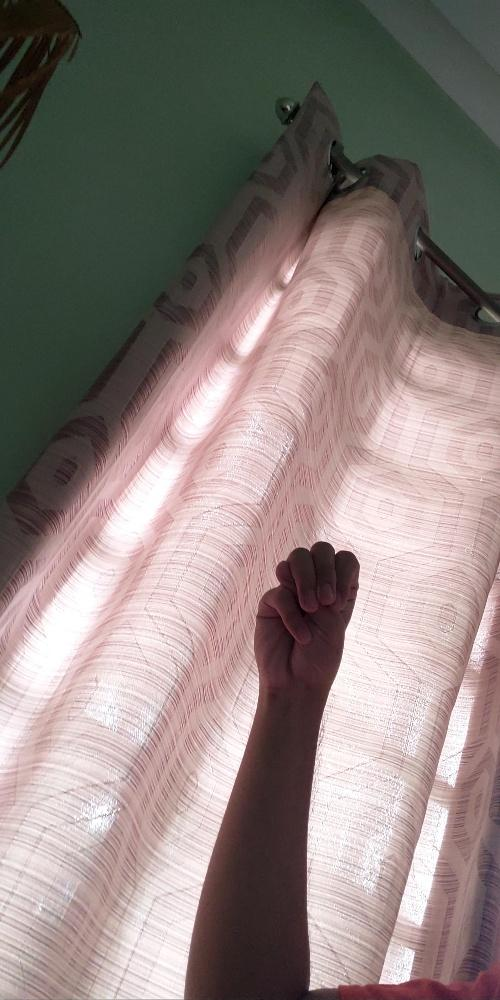m: (252, 538, 361, 703)
